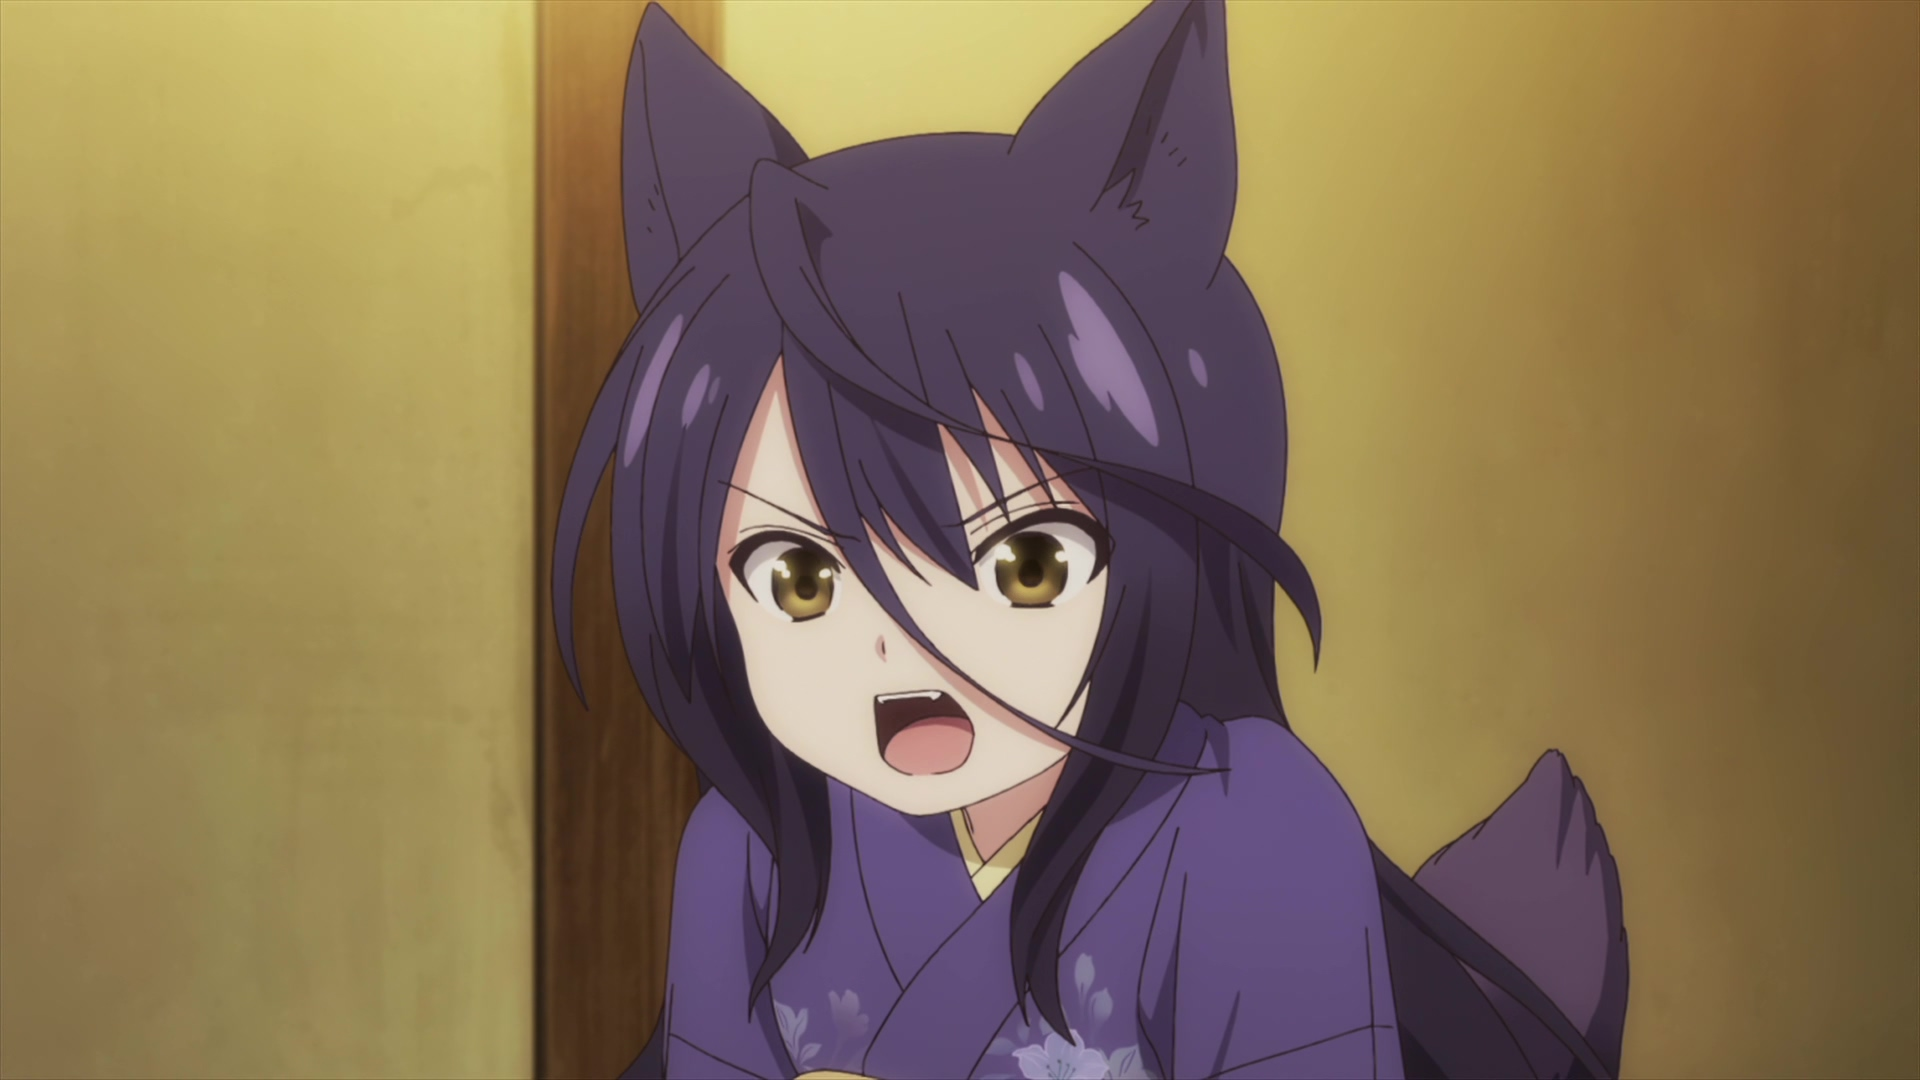皋: (549, 1, 1633, 1080)
